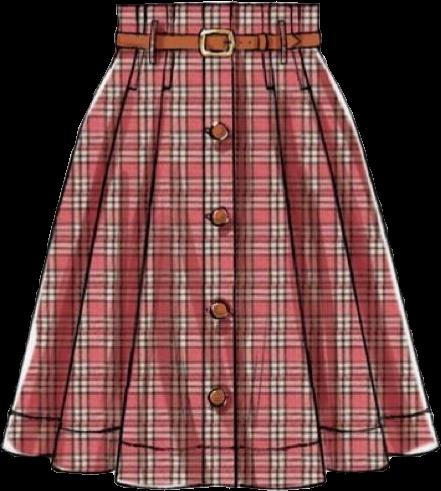Hemline: (0, 441, 440, 490)
Waistline: (114, 1, 317, 11)
